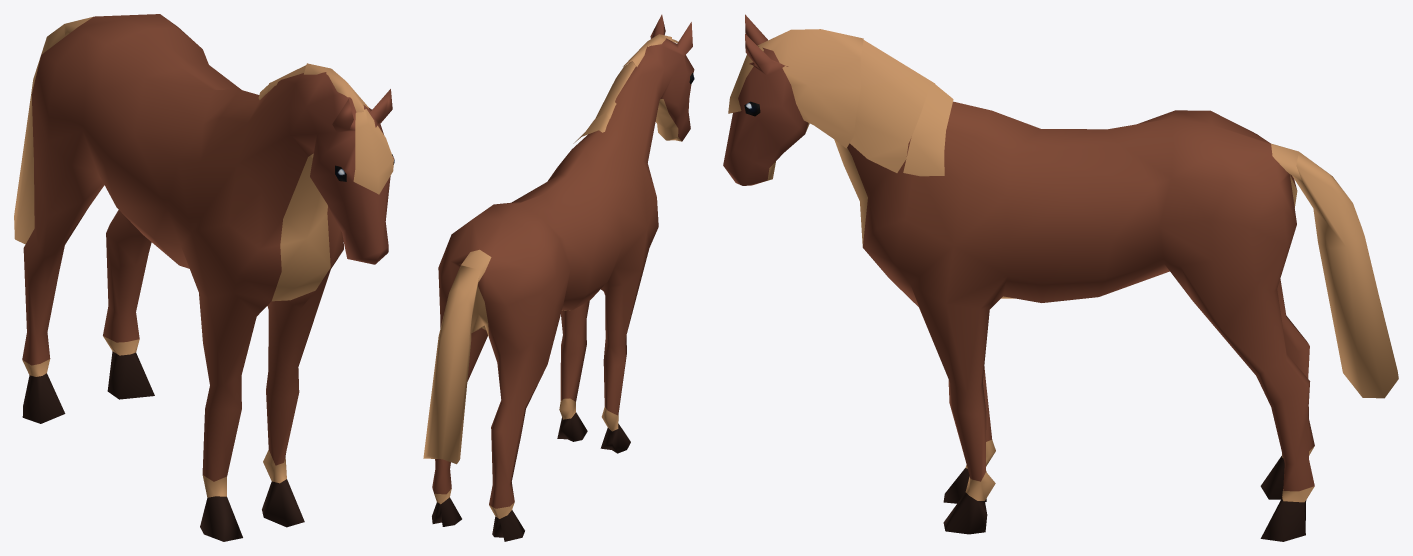
The model's file is Horse01.glb.
3 renders of one model, left to right at view 1: azimuth 30°, elevation 25°; view 2: azimuth 150°, elevation 25°; view 3: azimuth 270°, elevation 25°, orthographic. The views are drawn at different scales.
Parts seen in each view (by area): view 1: Horse01; view 2: Horse01; view 3: Horse01.
Part boxes in pixels (x1,y1,x2,y2): Horse01: [14, 14, 394, 541]; Horse01: [423, 14, 694, 541]; Horse01: [723, 14, 1398, 541].
Size of what is drawn, in the model's own units: 0.6081 by 2.01 by 2.51.
1 material, 1 textured.
